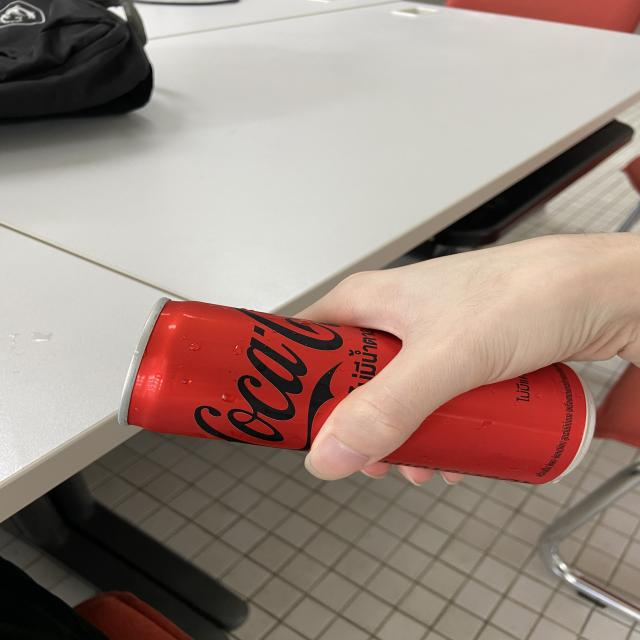can: (111, 296, 596, 490)
